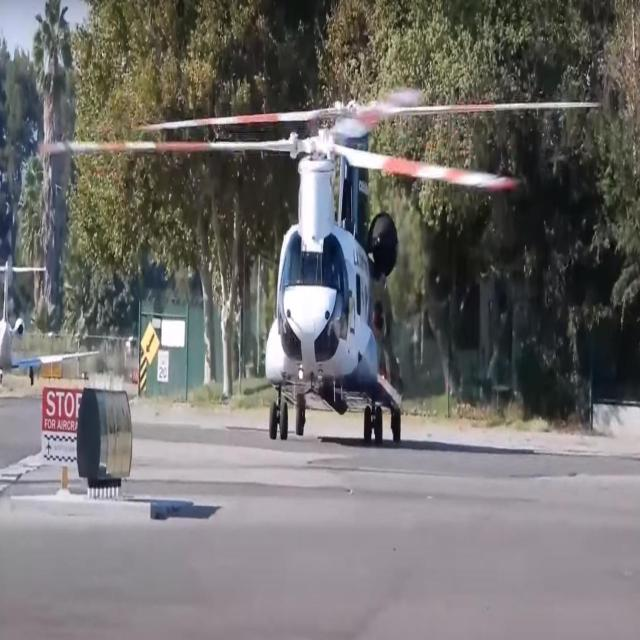Helicopter: (221, 76, 429, 452)
